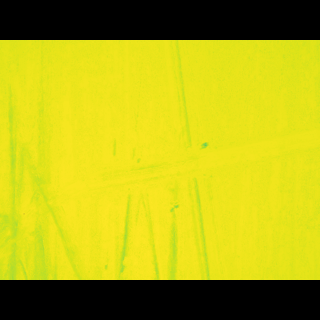Loch: (35, 129, 320, 197), (0, 69, 91, 250), (156, 68, 231, 250), (0, 185, 45, 239)
